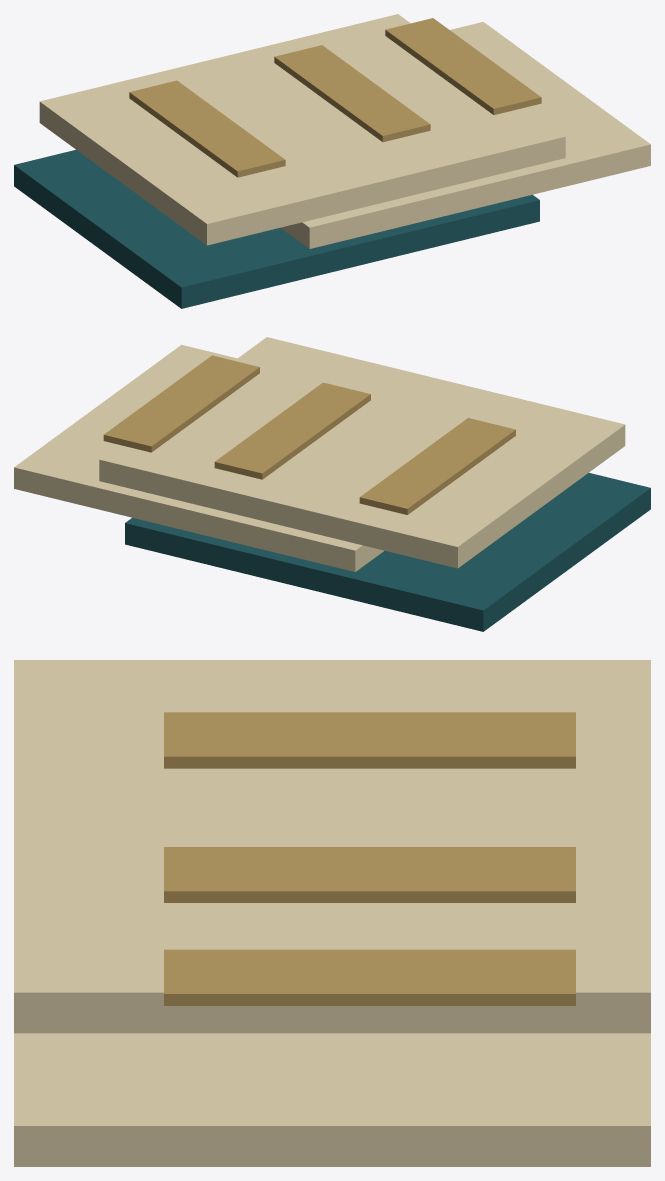
Rendered from VIC_L14_RIVER_PORTFOLIO_Roblox.fbx.
3 renders of one model, top to bottom at view 1: azimuth 30°, elevation 25°; view 2: azimuth 150°, elevation 25°; view 3: azimuth 270°, elevation 25°, orthographic. The views are drawn at different scales.
Parts seen in each view (by area): view 1: VIC_L14_RIVER_PORTFOLIO__Paper, VIC_L14_RIVER_PORTFOLIO__Teal, VIC_L14_RIVER_PORTFOLIO__Brass; view 2: VIC_L14_RIVER_PORTFOLIO__Paper, VIC_L14_RIVER_PORTFOLIO__Teal, VIC_L14_RIVER_PORTFOLIO__Brass; view 3: VIC_L14_RIVER_PORTFOLIO__Paper, VIC_L14_RIVER_PORTFOLIO__Brass.
Boxes of the visible parts, box(x1,y1,x2,y2) form: VIC_L14_RIVER_PORTFOLIO__Paper: box(39, 14, 650, 248); VIC_L14_RIVER_PORTFOLIO__Teal: box(14, 150, 539, 308); VIC_L14_RIVER_PORTFOLIO__Brass: box(129, 18, 541, 177); VIC_L14_RIVER_PORTFOLIO__Paper: box(14, 337, 625, 571); VIC_L14_RIVER_PORTFOLIO__Teal: box(125, 473, 650, 631); VIC_L14_RIVER_PORTFOLIO__Brass: box(103, 355, 515, 514); VIC_L14_RIVER_PORTFOLIO__Paper: box(14, 660, 650, 1166); VIC_L14_RIVER_PORTFOLIO__Brass: box(164, 712, 575, 1005).
Size of the model in its own units: 2.75 by 0.4775 by 1.7.
